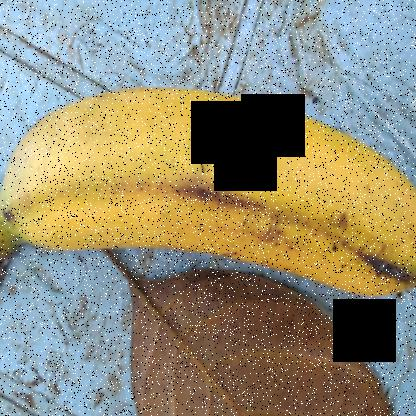ripe: (0, 68, 408, 308)
